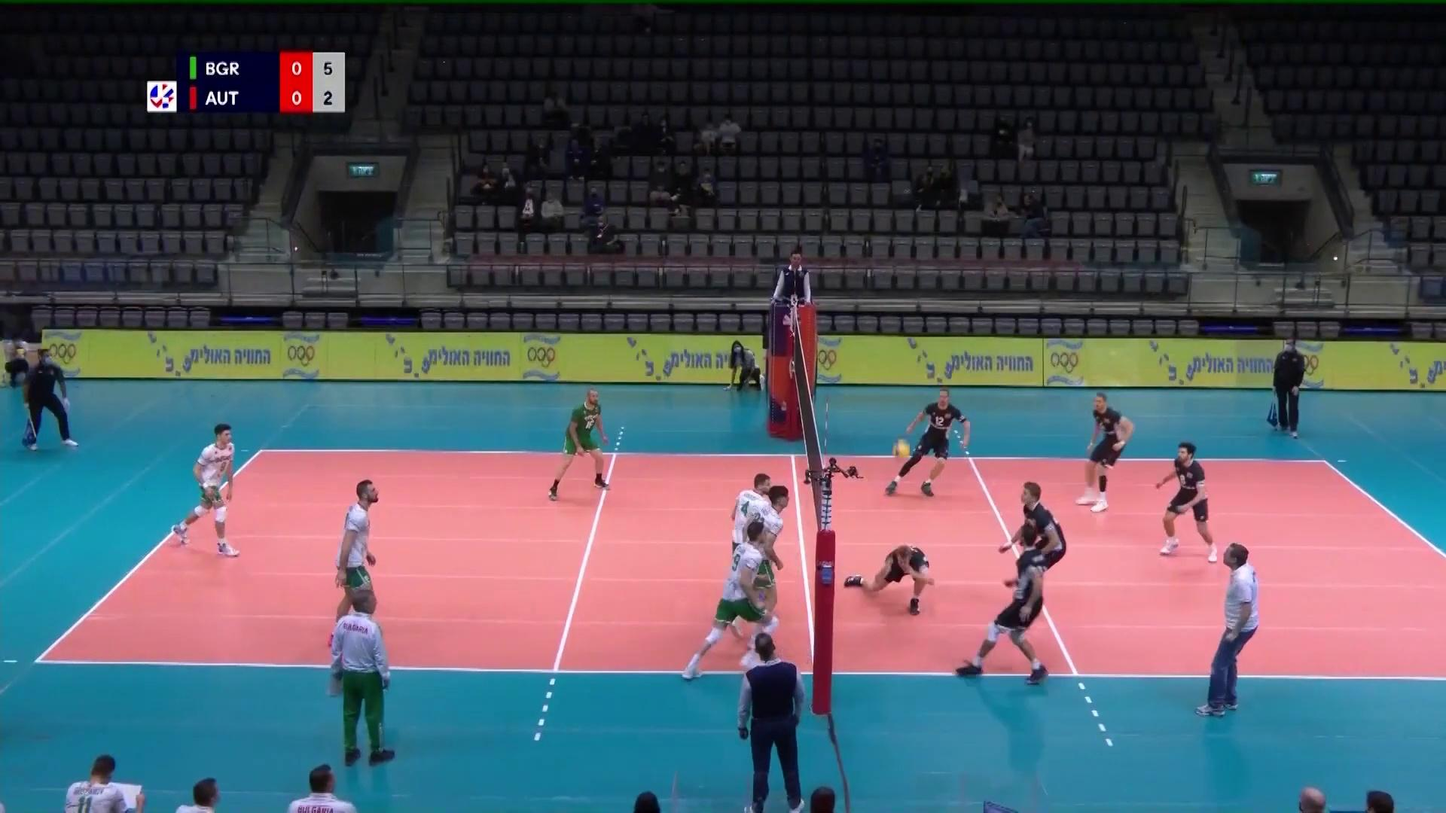ball: (894, 438, 910, 458)
